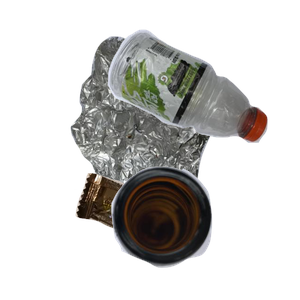glass: (109, 164, 300, 300)
metal: (68, 34, 300, 214)
plastic: (105, 27, 300, 162)
trash: (73, 171, 242, 300)
